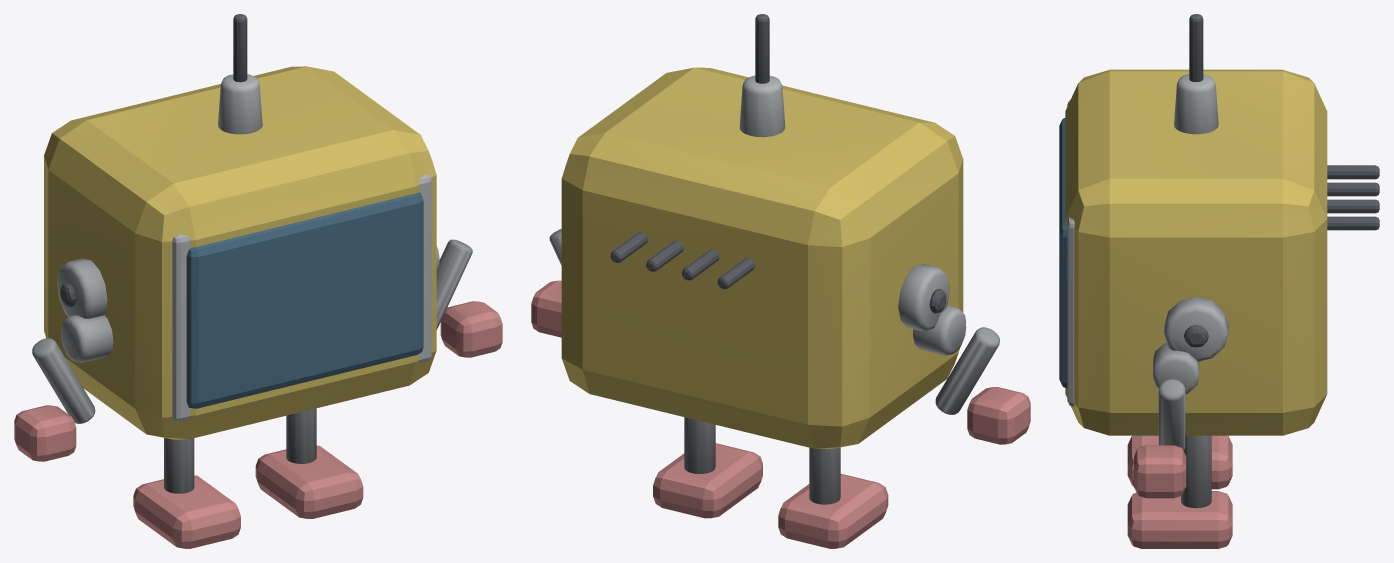
The model's file is boulon.glb.
The picture shows the model from 3 angles, left to right: view 1: azimuth 30°, elevation 25°; view 2: azimuth 150°, elevation 25°; view 3: azimuth 270°, elevation 25°; orthographic projection. The views are drawn at different scales.
Visible parts, largest first — view 1: corps__yellow, ecran__screen, pied__red.001, pied__red, cadre__metal, pince__red, pince__red.001, bras__metal2, cou__metal, boulon__metal, epaule__metal, bras__metal2.001 (+3 smaller); view 2: corps__yellow, pied__red, pied__red.001, pince__red, bras__metal2, cou__metal, boulon__metal, jambe__metal2, epaule__metal, jambe__metal2.001, pince__red.001, antenne__dark; view 3: corps__yellow, pied__red.001, boulon__metal.001, pince__red.001, cou__metal, ecran__screen, jambe__metal2.001, bras__metal2.001, pied__red, epaule__metal.001, cadre__metal, antenne__dark (+5 smaller).
Part boxes in pixels (x1,y1,x2,y2): corps__yellow: (44, 66, 436, 439); ecran__screen: (186, 192, 423, 408); pied__red.001: (255, 445, 363, 518); pied__red: (133, 475, 240, 548); cadre__metal: (172, 174, 431, 421); pince__red: (14, 405, 76, 461); pince__red.001: (440, 301, 502, 357); bras__metal2: (32, 338, 95, 423); cou__metal: (218, 74, 262, 134); boulon__metal: (57, 258, 107, 318); epaule__metal: (61, 315, 113, 362); bras__metal2.001: (436, 239, 472, 329); corps__yellow: (561, 67, 963, 449); pied__red: (778, 473, 888, 548); pied__red.001: (653, 443, 762, 518); pince__red: (967, 387, 1030, 444); bras__metal2: (935, 327, 999, 414); cou__metal: (739, 75, 785, 137); boulon__metal: (898, 264, 949, 331); jambe__metal2: (809, 447, 840, 504); epaule__metal: (913, 305, 966, 355); jambe__metal2.001: (684, 417, 715, 473); pince__red.001: (531, 280, 561, 337); antenne__dark: (755, 14, 769, 83); corps__yellow: (1065, 69, 1327, 435); pied__red.001: (1127, 491, 1232, 548); boulon__metal.001: (1164, 296, 1228, 361); pince__red.001: (1134, 445, 1186, 498); cou__metal: (1174, 74, 1218, 134); ecran__screen: (1059, 118, 1067, 387); jambe__metal2.001: (1181, 435, 1211, 508); bras__metal2.001: (1158, 379, 1185, 450); pied__red: (1127, 435, 1232, 489); epaule__metal.001: (1153, 343, 1199, 394); cadre__metal: (1067, 100, 1074, 406); antenne__dark: (1189, 14, 1203, 82).
Bounding box in the file's own units: 2.7 × 2.7 × 1.59.
